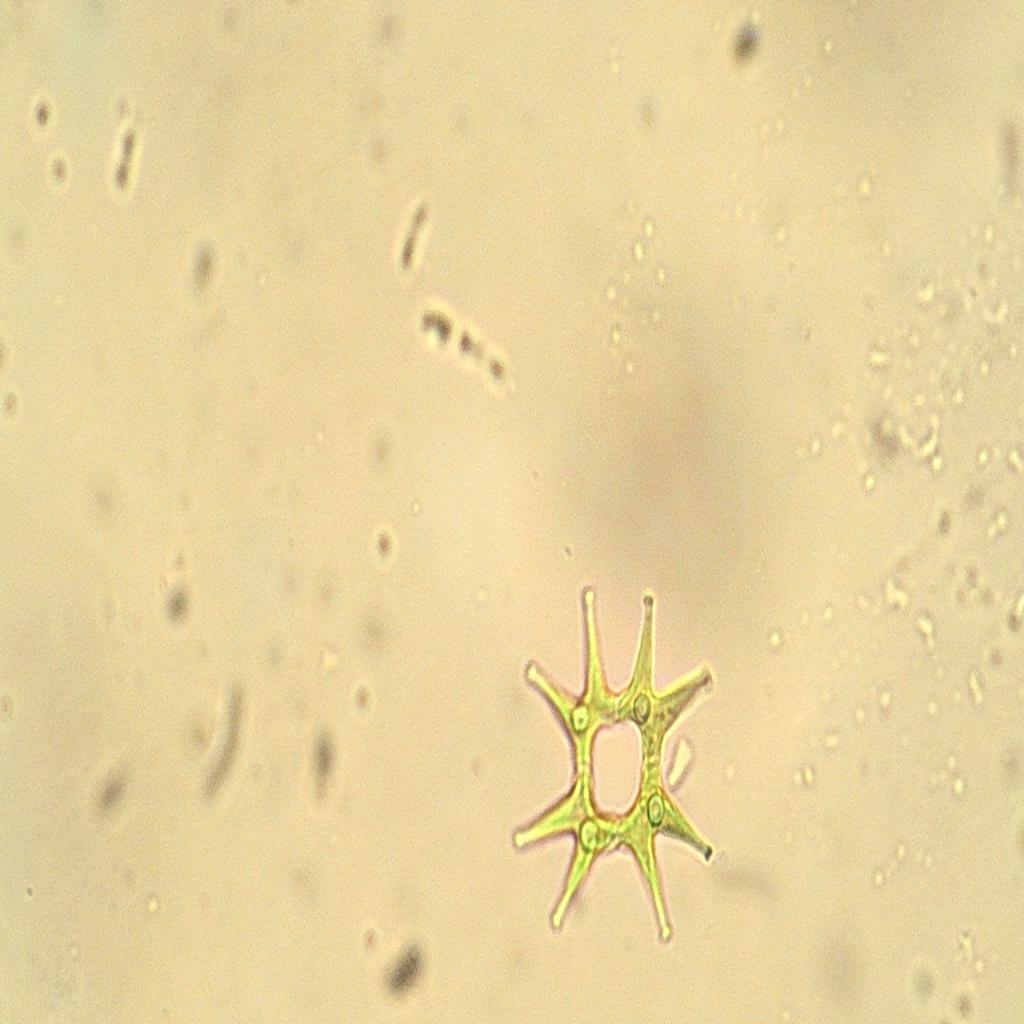Pediastrum_75O: (500, 570, 728, 956)
